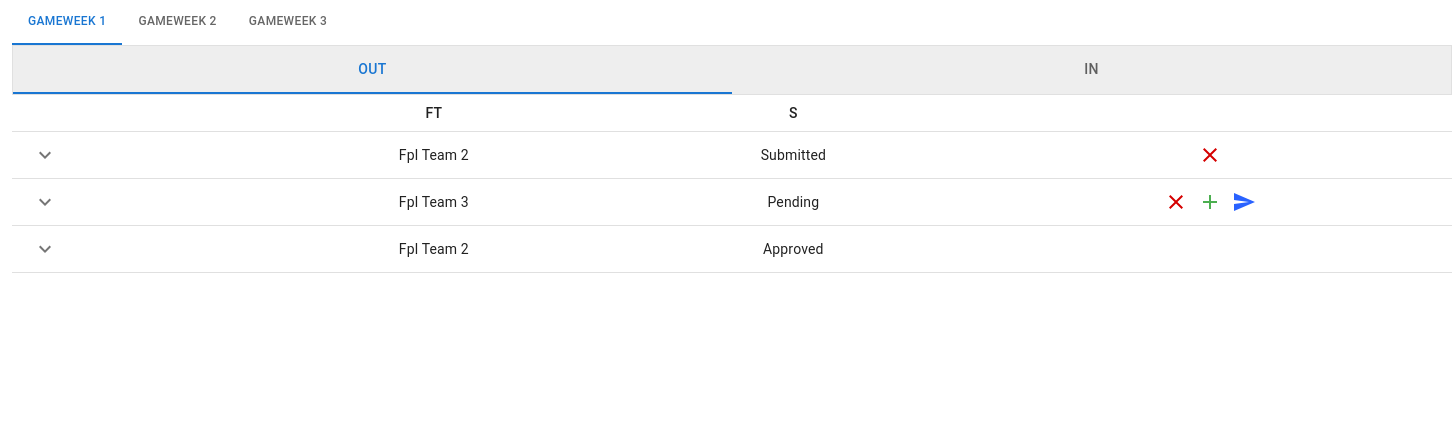
Test: TeamTradeTabs › renders the outTrades by default
Expected: the cell "Fpl Team 2" next to "Submitted" is shown, x1=399 y1=147 x2=469 y2=163
Expected: the cell "Submitted" is shown, x1=618 y1=132 x2=969 y2=179
Click the button without text in the row of "Submitted" at x=45, y=155, box x1=28 y1=138 x2=62 y2=172
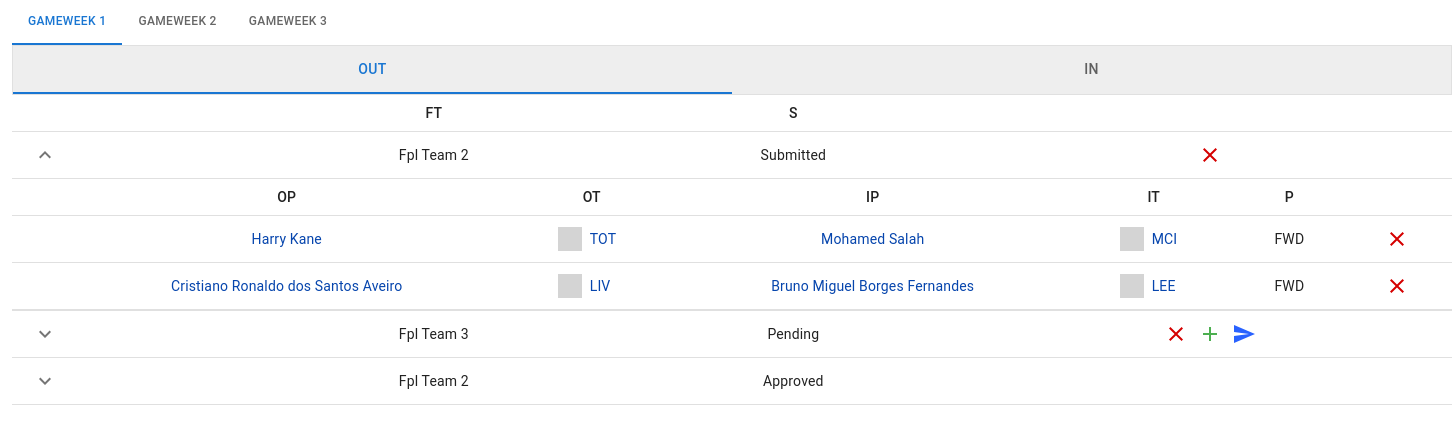
Expected: the link "TOT" is shown, x1=558 y1=227 x2=626 y2=251
Expected: the link "MCI" is shown, x1=1120 y1=227 x2=1177 y2=251
Expected: the cell "FWD" in the row of "Harry Kane" is shown, x1=1274 y1=231 x2=1304 y2=247
Click the button without text in the row of "Submitted" at x=45, y=155, box x1=28 y1=138 x2=62 y2=172
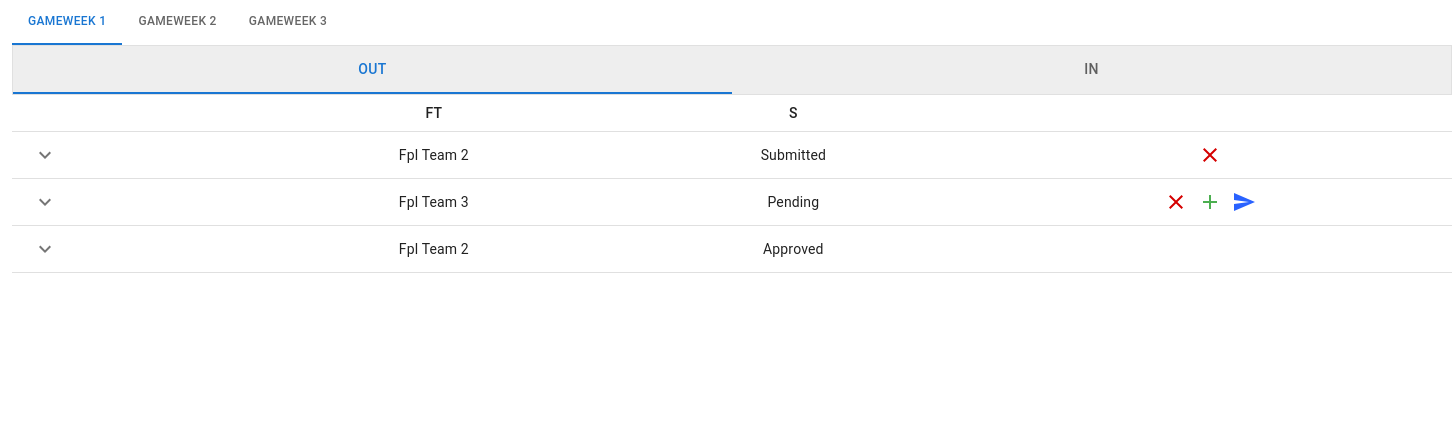
Click the button without text in the row of "Approved" at x=45, y=249, box x1=28 y1=232 x2=62 y2=266
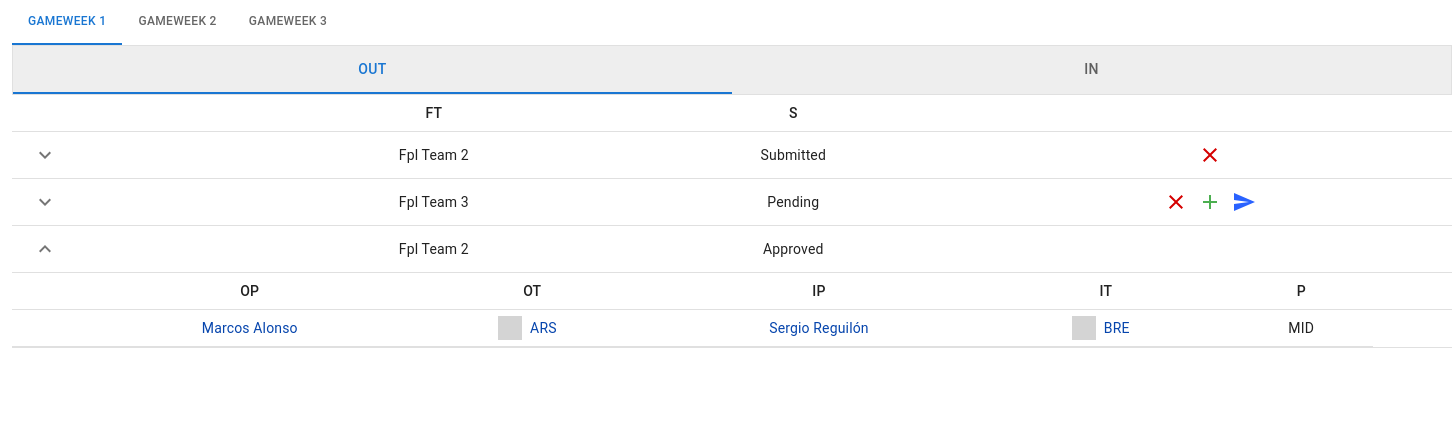
Expected: the link "ARS" is shown, x1=498 y1=316 x2=566 y2=340
Expected: the link "BRE" is shown, x1=1072 y1=316 x2=1130 y2=340
Expected: the cell "MID" is shown, x1=1230 y1=310 x2=1373 y2=347
